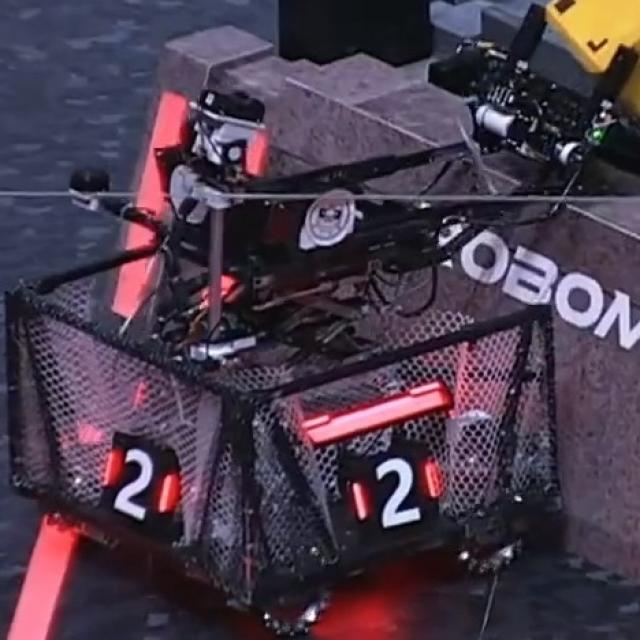B5: (100, 446, 176, 520)
R2: (352, 457, 436, 527)
